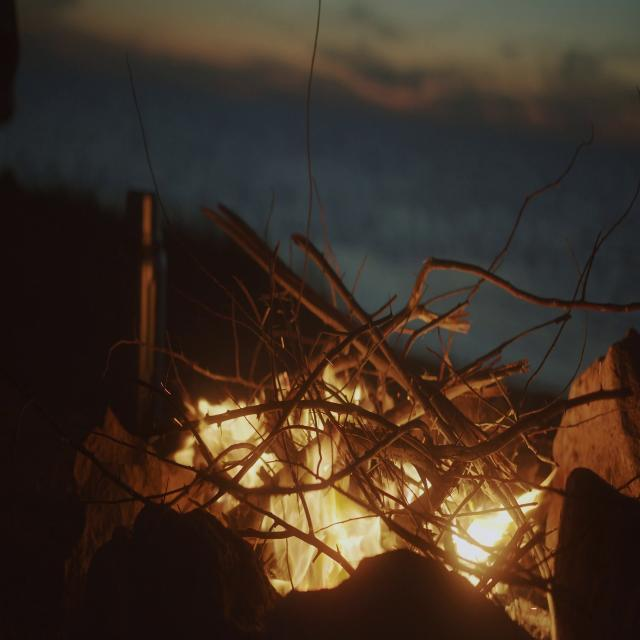Fire: (186, 368, 527, 604)
